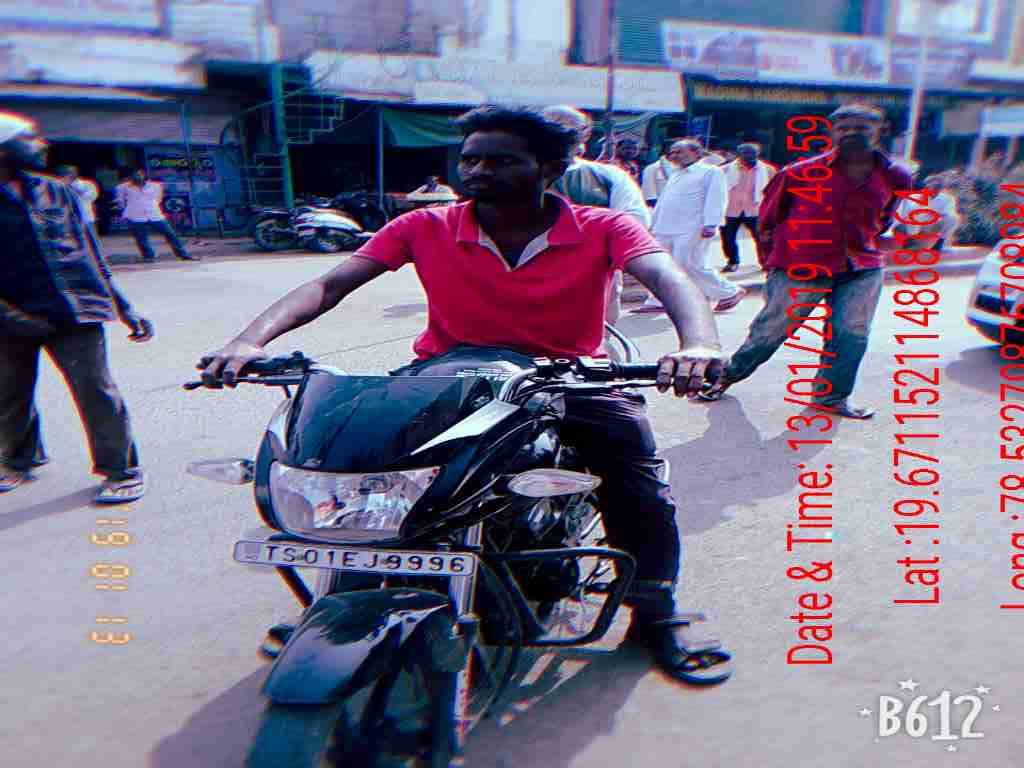plate: (231, 535, 478, 583)
